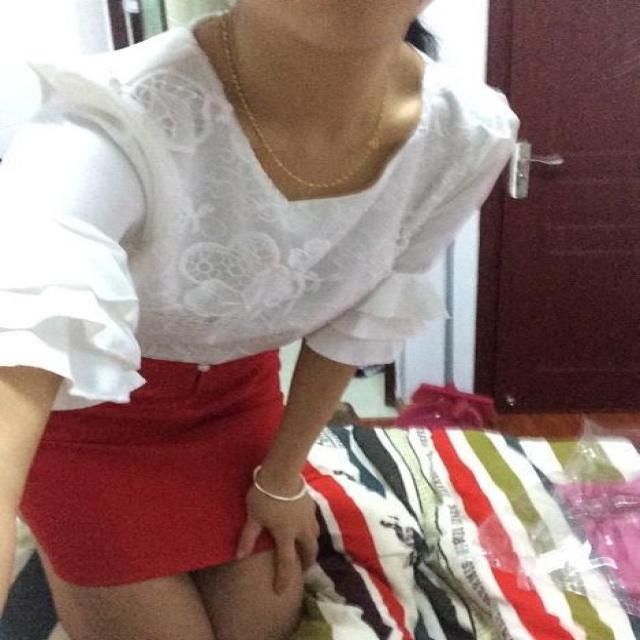short sleeve top: (0, 53, 503, 403)
skirt: (22, 349, 310, 583)
